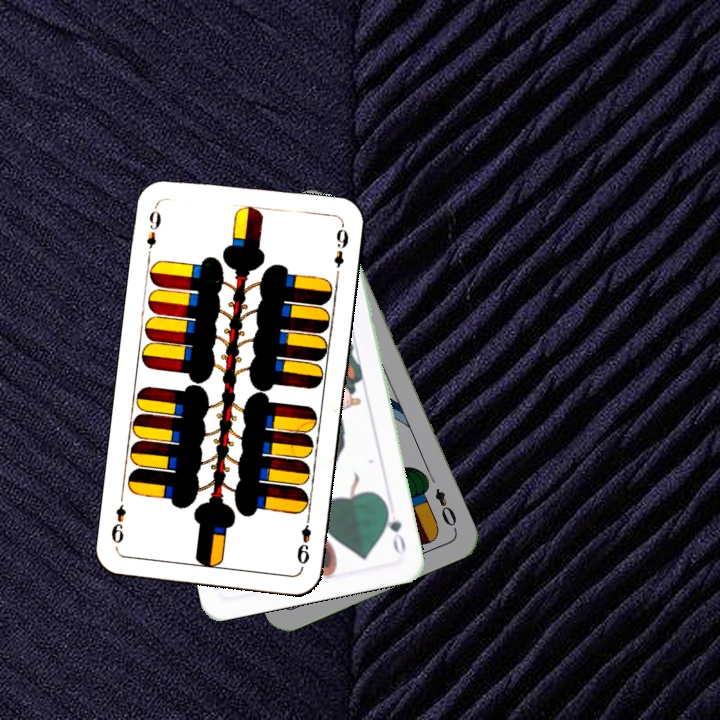E9: (292, 511, 314, 567), (143, 201, 164, 251)
EO: (431, 484, 460, 534)
GO: (381, 500, 408, 557)
